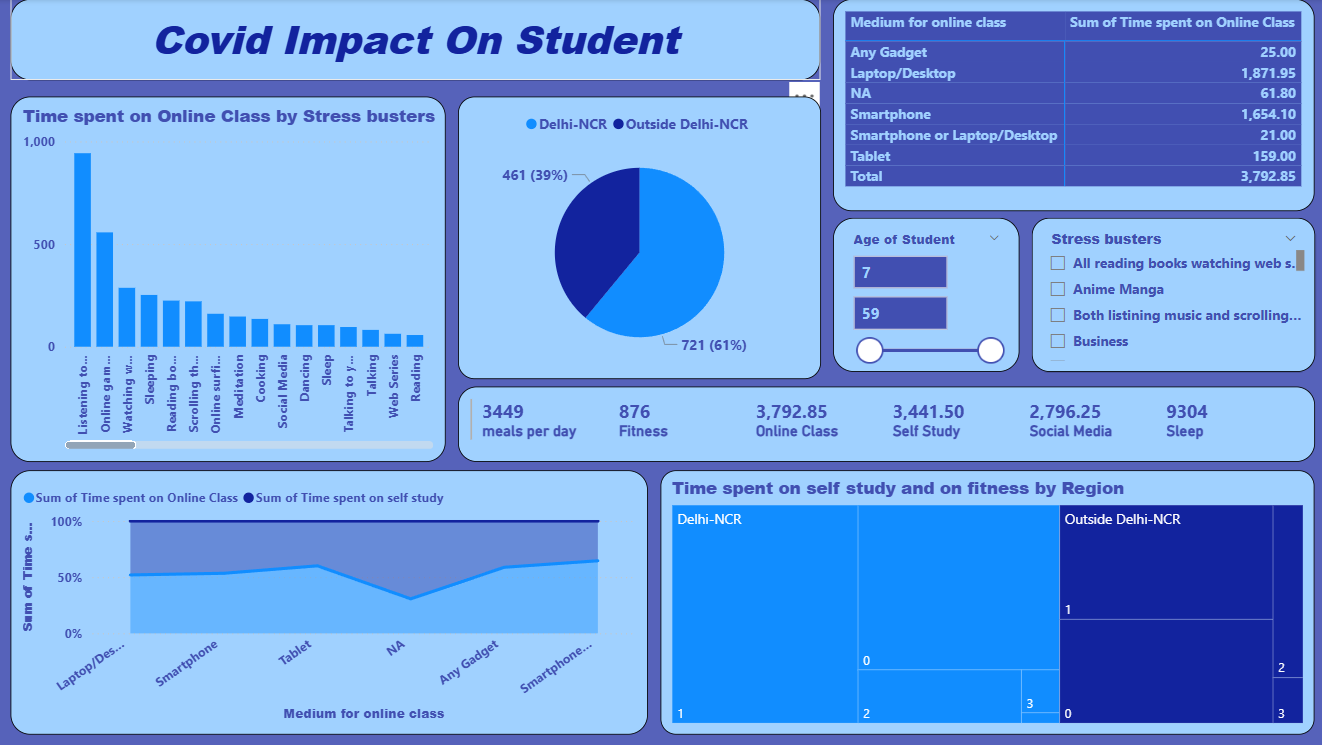

The dashboard page shown, as its layout file describes it:
{"tool":"powerbi","page":{"name":"Page 3","canvas":[1280,720],"ordinal":2},"visuals":[{"type":"textbox","box":[12.5,0,781.2,78.8],"z":0},{"type":"clusteredColumnChart","title":"Time spent on Online Class by Stress busters","fields":{"Y":["Sum(Impact_of_C19_on_Students.Time spent on Online Class)"],"Category":["Impact_of_C19_on_Students.Stress busters"]},"box":[12.5,93.8,420,352.5],"z":1000},{"type":"pieChart","fields":{"Category":["Impact_of_C19_on_Students.Region of residence"],"Y":["CountNonNull(Impact_of_C19_on_Students.Time utilized)"]},"box":[443.8,93.8,350,272.5],"z":2000},{"type":"treemap","title":"Time spent on self study and on fitness by Region","fields":{"Group":["Impact_of_C19_on_Students.Region of residence"],"Values":["Sum(Impact_of_C19_on_Students.Time spent on self study)"],"Details":["Impact_of_C19_on_Students.Time spent on fitness"]},"box":[640,455,631.2,255],"z":3000},{"type":"multiRowCard","fields":{"Values":["Sum(Impact_of_C19_on_Students.Number of meals per day)","Sum(Impact_of_C19_on_Students.Time spent on fitness)","Sum(Impact_of_C19_on_Students.Time spent on Online Class)","Sum(Impact_of_C19_on_Students.Time spent on self study)","Sum(Impact_of_C19_on_Students.Time spent on social media)","Sum(Impact_of_C19_on_Students.Time spent on sleep)"]},"box":[443.8,373.8,827.5,72.5],"z":4000},{"type":"hundredPercentStackedAreaChart","fields":{"Category":["Impact_of_C19_on_Students.Medium for online class"],"Y":["Sum(Impact_of_C19_on_Students.Time spent on Online Class)","Sum(Impact_of_C19_on_Students.Time spent on self study)"]},"box":[12.5,455,615,255],"z":5000},{"type":"slicer","fields":{"Values":["Impact_of_C19_on_Students.Age of Student"]},"box":[806.2,211.2,180,148.8],"z":6000},{"type":"slicer","fields":{"Values":["Impact_of_C19_on_Students.Stress busters"]},"box":[997.5,211.2,273.8,148.8],"z":7000},{"type":"pivotTable","fields":{"Rows":["Impact_of_C19_on_Students.Medium for online class"],"Values":["Sum(Impact_of_C19_on_Students.Time spent on Online Class)"]},"box":[806.2,0,465,205],"z":8000}]}

Visuals, with their boxes in screenshot pixels (x1, y1, x2, y2), scaled from the page's 1280x720 canvas onto the 1322x745 screenshot:
textbox: box(13, 0, 820, 82)
"Time spent on Online Class by Stress busters" clusteredColumnChart: box(13, 97, 447, 462)
pieChart - Impact_of_C19_on_Students.Region of residence x CountNonNull(Impact_of_C19_on_Students.Time utilized): box(458, 97, 820, 379)
"Time spent on self study and on fitness by Region" treemap: box(661, 471, 1313, 735)
multiRowCard - Sum(Impact_of_C19_on_Students.Number of meals per day) x Sum(Impact_of_C19_on_Students.Time spent on fitness): box(458, 387, 1313, 462)
hundredPercentStackedAreaChart - Impact_of_C19_on_Students.Medium for online class x Sum(Impact_of_C19_on_Students.Time spent on Online Class): box(13, 471, 648, 735)
slicer - Impact_of_C19_on_Students.Age of Student: box(833, 219, 1019, 373)
slicer - Impact_of_C19_on_Students.Stress busters: box(1030, 219, 1313, 373)
pivotTable - Impact_of_C19_on_Students.Medium for online class x Sum(Impact_of_C19_on_Students.Time spent on Online Class): box(833, 0, 1313, 212)
